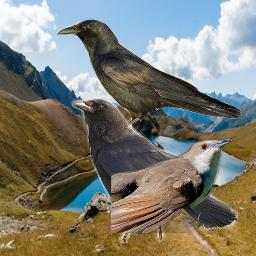Crow: (71, 98, 238, 243), (55, 18, 242, 144)
Cuckoo: (111, 139, 232, 233)
